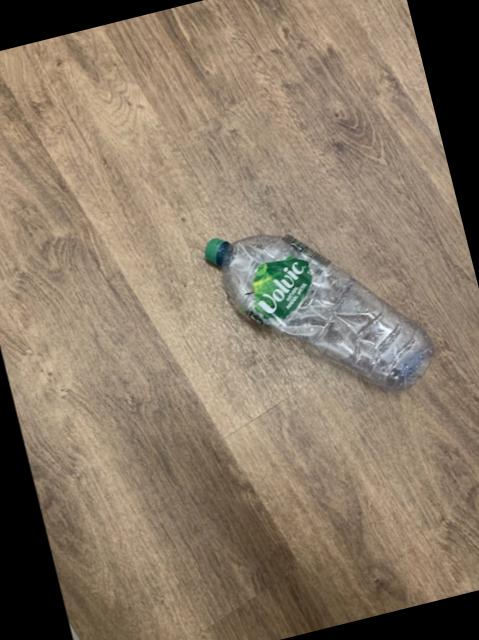plastic: (203, 233, 430, 388)
